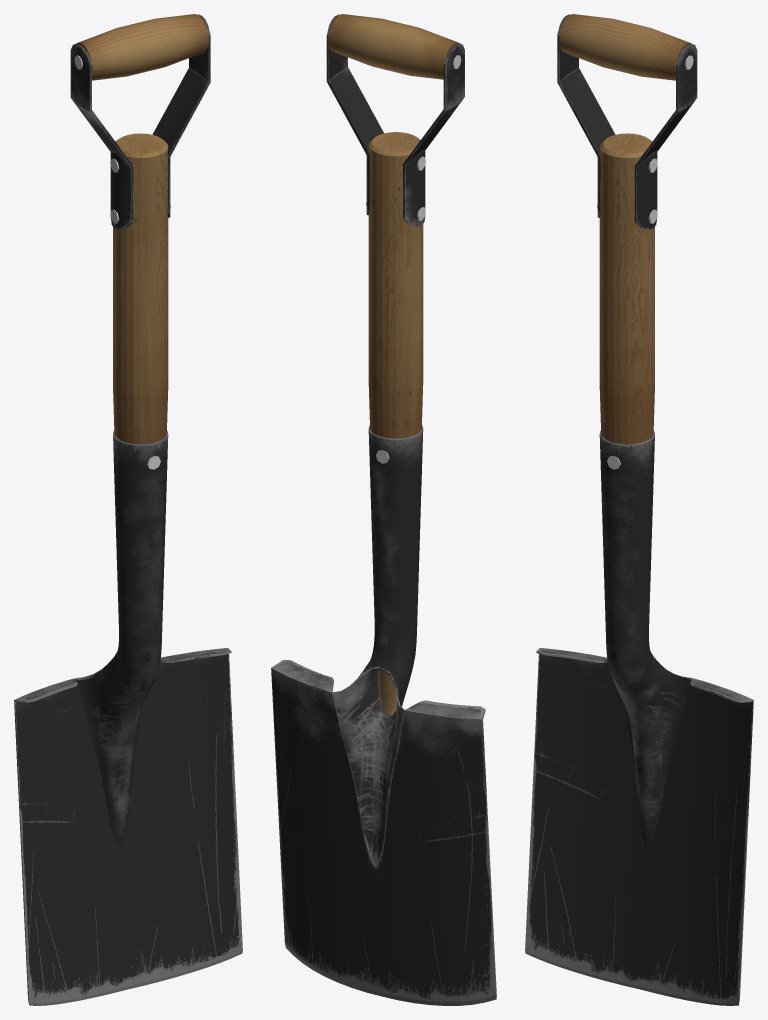
File: shovel_01_midpoly.FBX
3 views of the same model, side by side, from view 1: azimuth 30°, elevation 25°; view 2: azimuth 150°, elevation 25°; view 3: azimuth 330°, elevation 25° (orthographic).
Visible parts, largest first — view 1: shovel_01_midpoly; view 2: shovel_01_midpoly; view 3: shovel_01_midpoly.
Boxes of the visible parts, <box> form: shovel_01_midpoly: <box>14,14,242,1005</box>; shovel_01_midpoly: <box>271,14,496,1005</box>; shovel_01_midpoly: <box>525,14,753,1005</box>.
Bounding box in the file's own units: 10.84 × 47.2 × 3.7.
